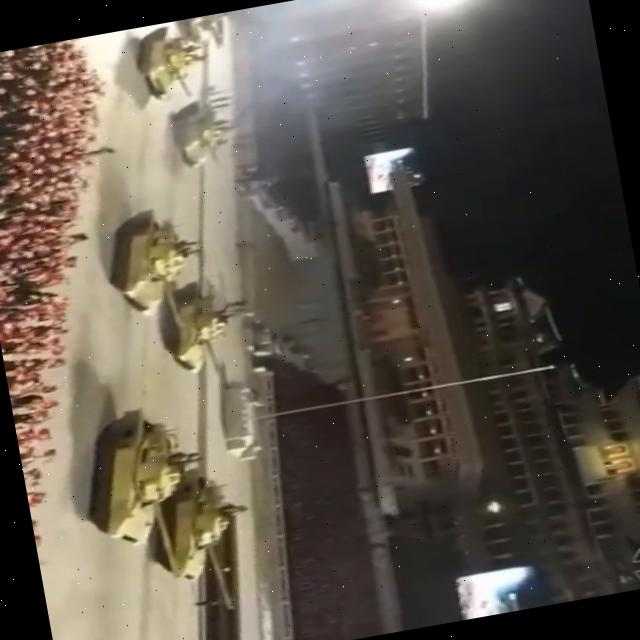north tank: (69, 389, 204, 550), (134, 465, 252, 592), (90, 190, 210, 310), (146, 268, 254, 379), (120, 22, 217, 116), (156, 86, 246, 174)
